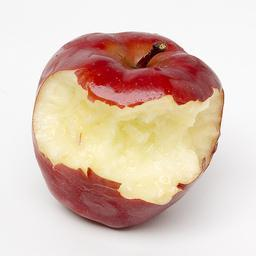apple: (31, 28, 225, 228)
